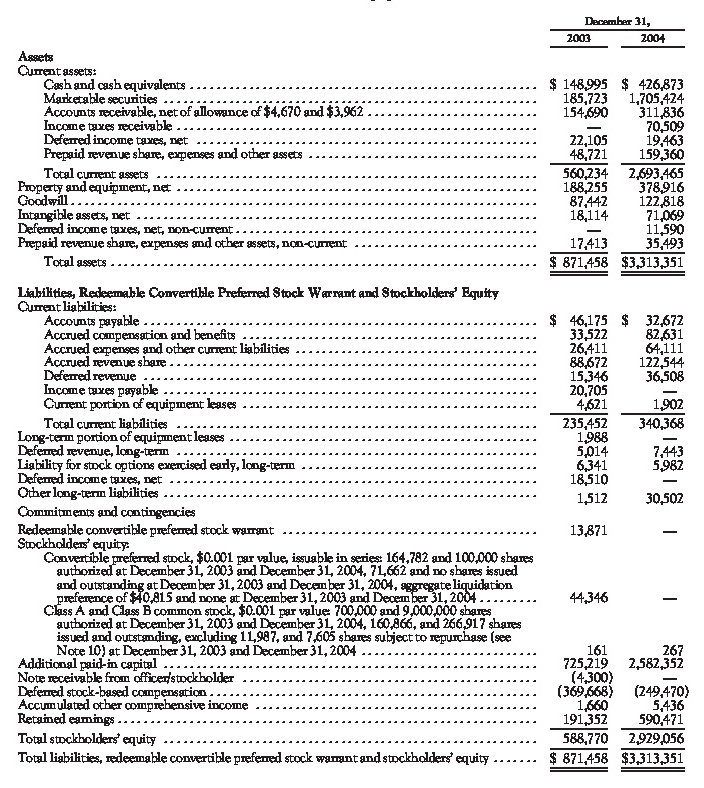table: (0, 0, 704, 788)
